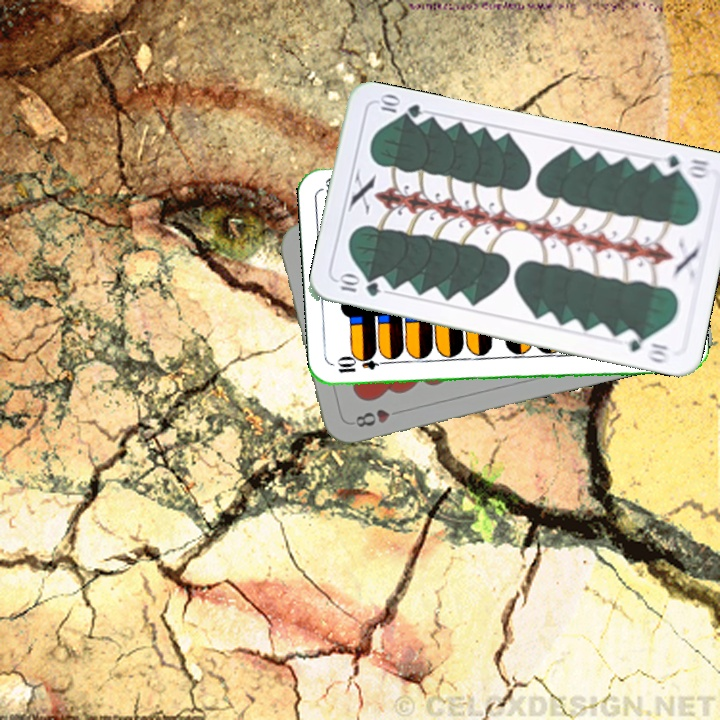E10: (333, 355, 392, 376)
G10: (653, 151, 714, 181), (334, 272, 383, 299)
H8: (351, 405, 406, 430)
